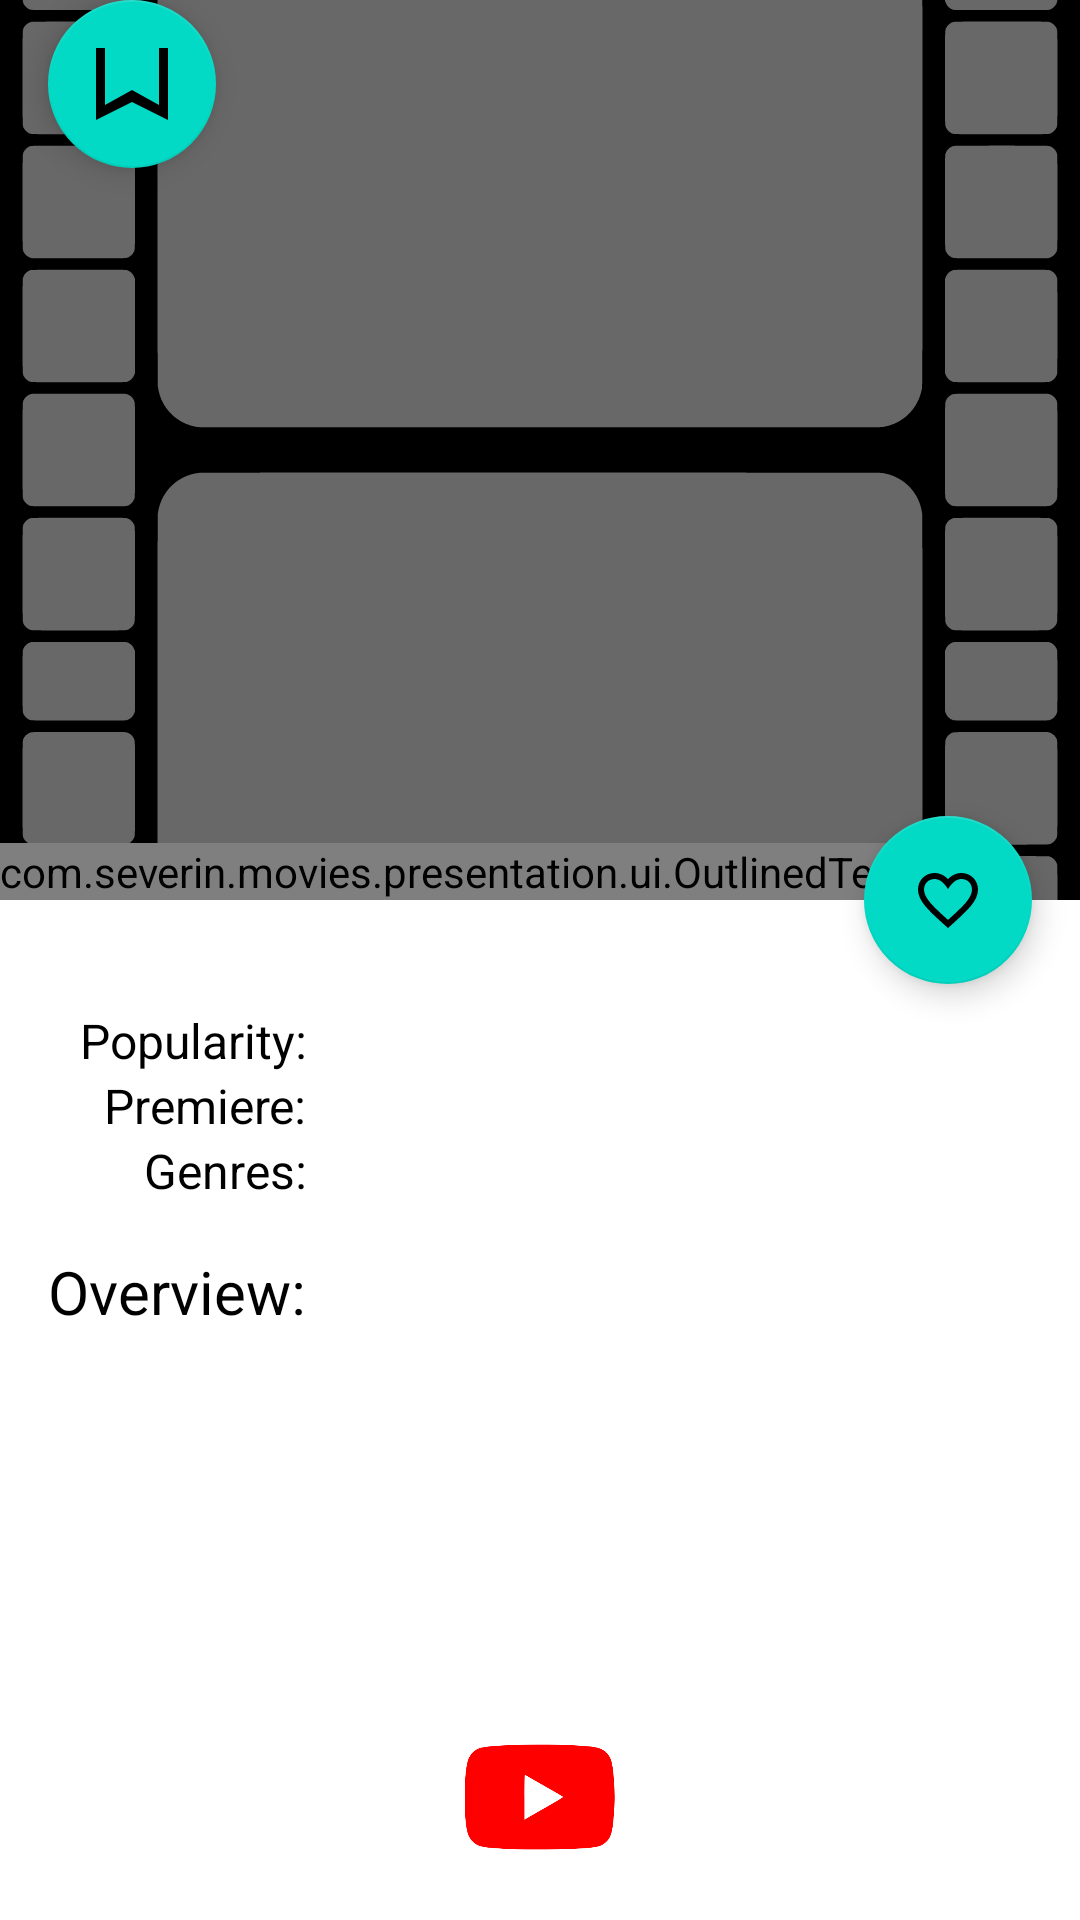

Point at icon controls on the screen. Image size 1080*1920, points as (x=x, y=y).
Button to add to favorites: (x=948, y=900)
Button to add to watch later list: (x=132, y=84)
